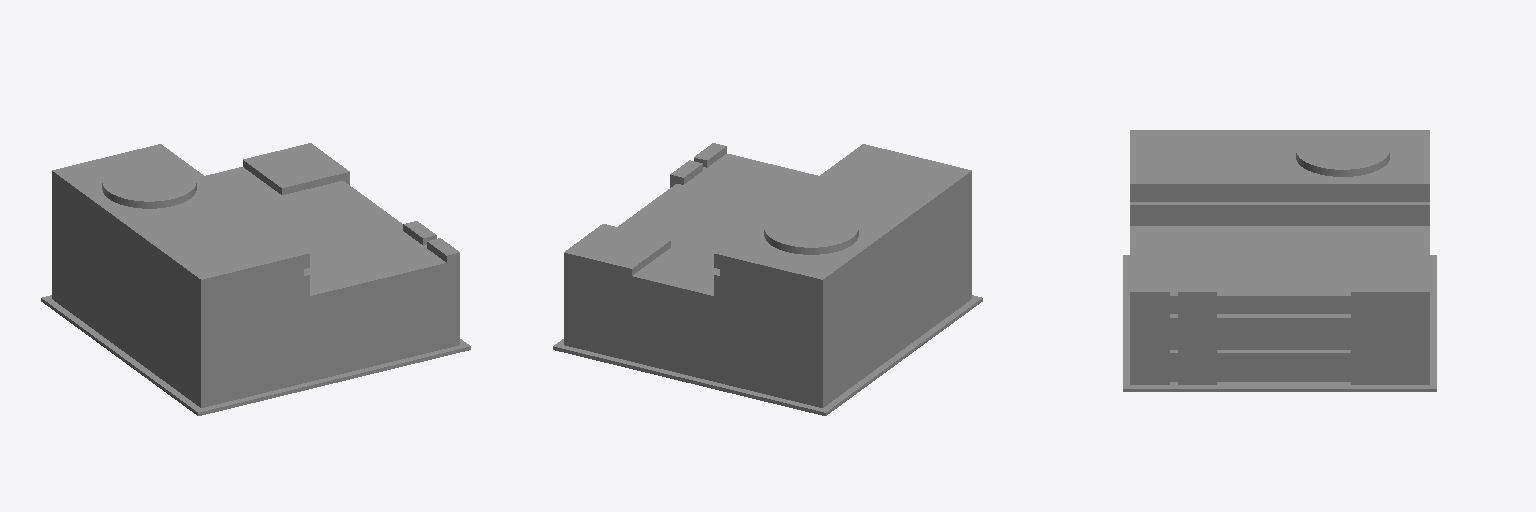
File: FoodProcess.obj
3 renders of one model, left to right at view 1: azimuth 30°, elevation 25°; view 2: azimuth 150°, elevation 25°; view 3: azimuth 270°, elevation 25°, orthographic.
Bounding box in the file's own units: 20 × 9.75 × 20.